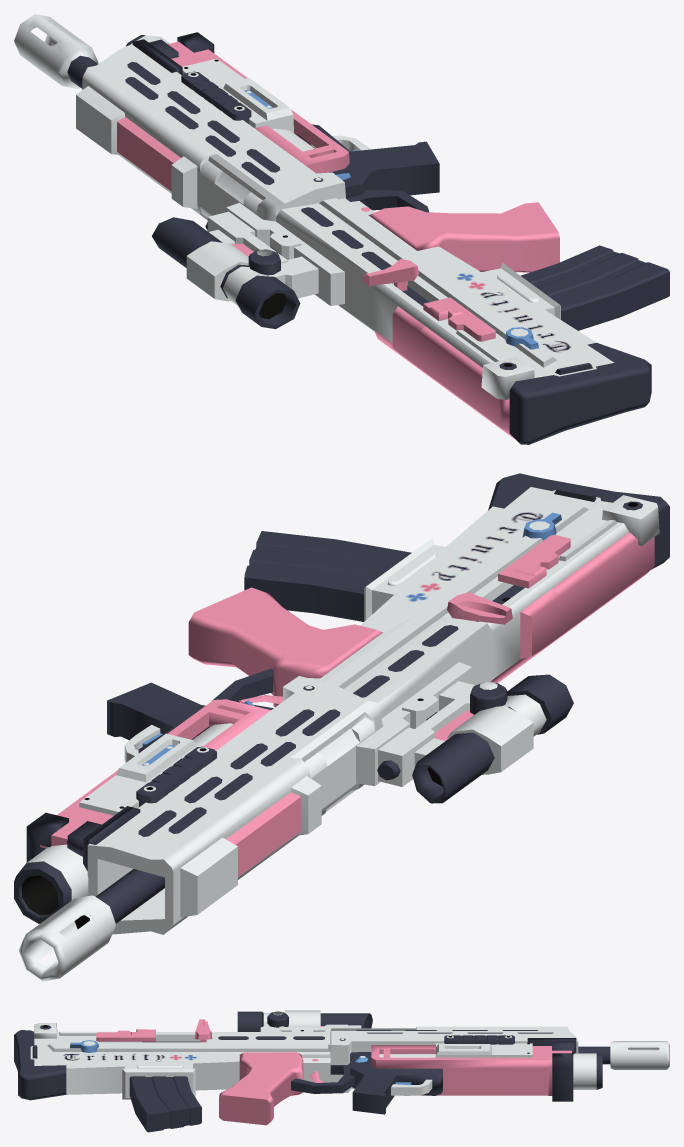
The model's file is hanako.glb.
3 views of the same model, one above another, from view 1: azimuth 30°, elevation 25°; view 2: azimuth 150°, elevation 25°; view 3: azimuth 270°, elevation 25° (orthographic). The views are drawn at different scales.
Parts seen in each view (by area): view 1: Hanako_Original_Weapon; view 2: Hanako_Original_Weapon; view 3: Hanako_Original_Weapon.
Part boxes in pixels (<box>): Hanako_Original_Weapon: <box>14,14,669,444</box>; Hanako_Original_Weapon: <box>14,473,669,981</box>; Hanako_Original_Weapon: <box>14,1010,669,1132</box>.
Bounding box in the file's own units: 0.2083 × 0.0526 × 0.5429.
Materials: 1 (1 with a texture image).
